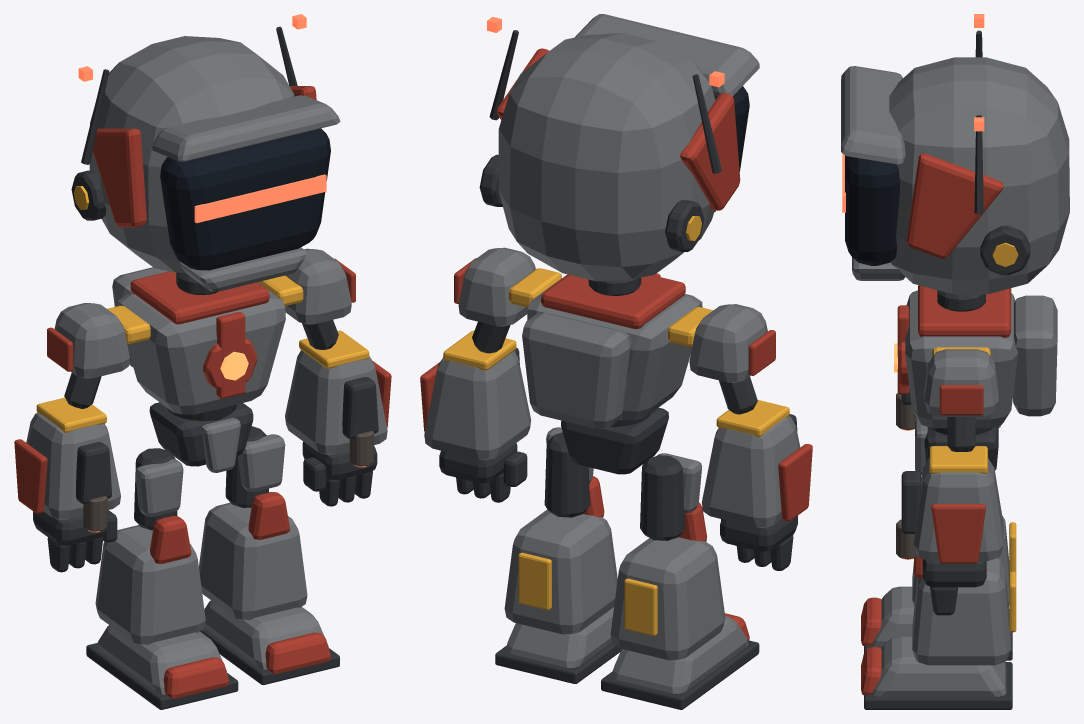
The model's file is sentinela.glb.
3 renders of one model, left to right at view 1: azimuth 30°, elevation 25°; view 2: azimuth 150°, elevation 25°; view 3: azimuth 270°, elevation 25°, orthographic. The views are drawn at different scales.
Parts seen in each view (by area): view 1: cabeca_p, visor, tronco_p, bota.001, bota, testa, antebraco, antebraco.001, placa_lado.001, ombro_p.001, pe.001, gola (+38 smaller); view 2: cabeca_p, mochila, bota.001, bota, antebraco, antebraco.001, tronco_p, gola, ombro_p.001, pe.001, testa, pelve (+28 smaller); view 3: cabeca_p, bota, placa_lado, visor, tronco_p, testa, pe, mochila, antebraco, gola, ombro_p, bracelete (+24 smaller).
Boxes of the visible parts, x1,y1,x2,y2 form: cabeca_p: (89,36,294,273); visor: (160,128,330,270); tronco_p: (117,282,285,414); bota.001: (95,525,205,644); bota: (199,502,307,619); testa: (152,95,340,161); antebraco: (285,350,387,454); antebraco.001: (26,413,120,520); placa_lado.001: (93,128,146,227); ombro_p.001: (54,303,129,378); pe.001: (96,625,227,694); gola: (130,271,269,324); cabeca_p: (498,33,715,281); mochila: (522,313,631,428); bota.001: (610,537,725,660); bota: (504,509,617,634); antebraco: (424,351,530,460); antebraco.001: (701,416,800,527); tronco_p: (527,274,702,420); gola: (541,274,685,329); ombro_p.001: (689,304,767,382); pe.001: (612,615,748,693); testa: (575,14,759,96); pelve: (561,407,668,474); cabeca_p: (889,57,1069,293); bota: (912,558,1010,665); placa_lado: (907,153,1003,258); visor: (845,155,900,265); tronco_p: (905,290,1017,428); testa: (841,66,905,164); pe: (872,636,1006,696); mochila: (1013,295,1057,416); antebraco: (913,458,1003,560); gola: (918,285,1011,337); ombro_p: (924,349,998,416); bracelete: (931,504,985,563).
Size of the model in its own units: 0.692 by 1.13 by 0.3922.
